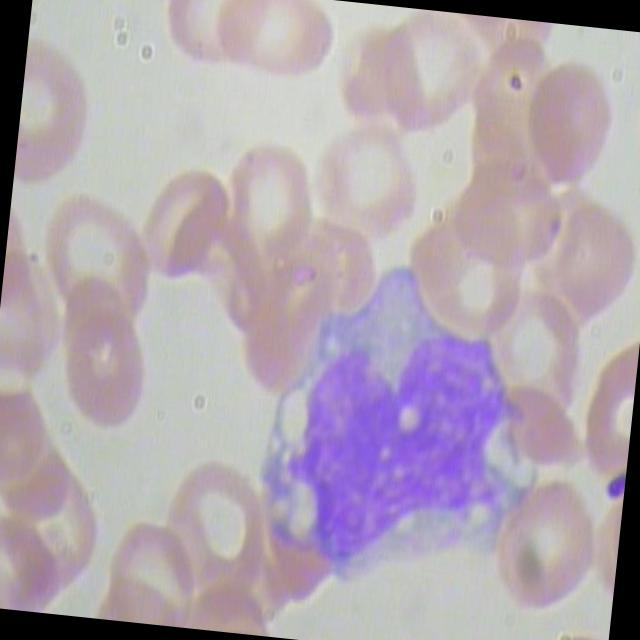RBC: (31, 184, 161, 345), (486, 470, 612, 622), (306, 124, 430, 256), (12, 42, 101, 194), (518, 64, 618, 190), (206, 0, 344, 91), (542, 200, 640, 327), (55, 308, 152, 436), (131, 164, 228, 292), (446, 172, 562, 274), (155, 0, 267, 73)
WBC: (254, 246, 556, 608)
